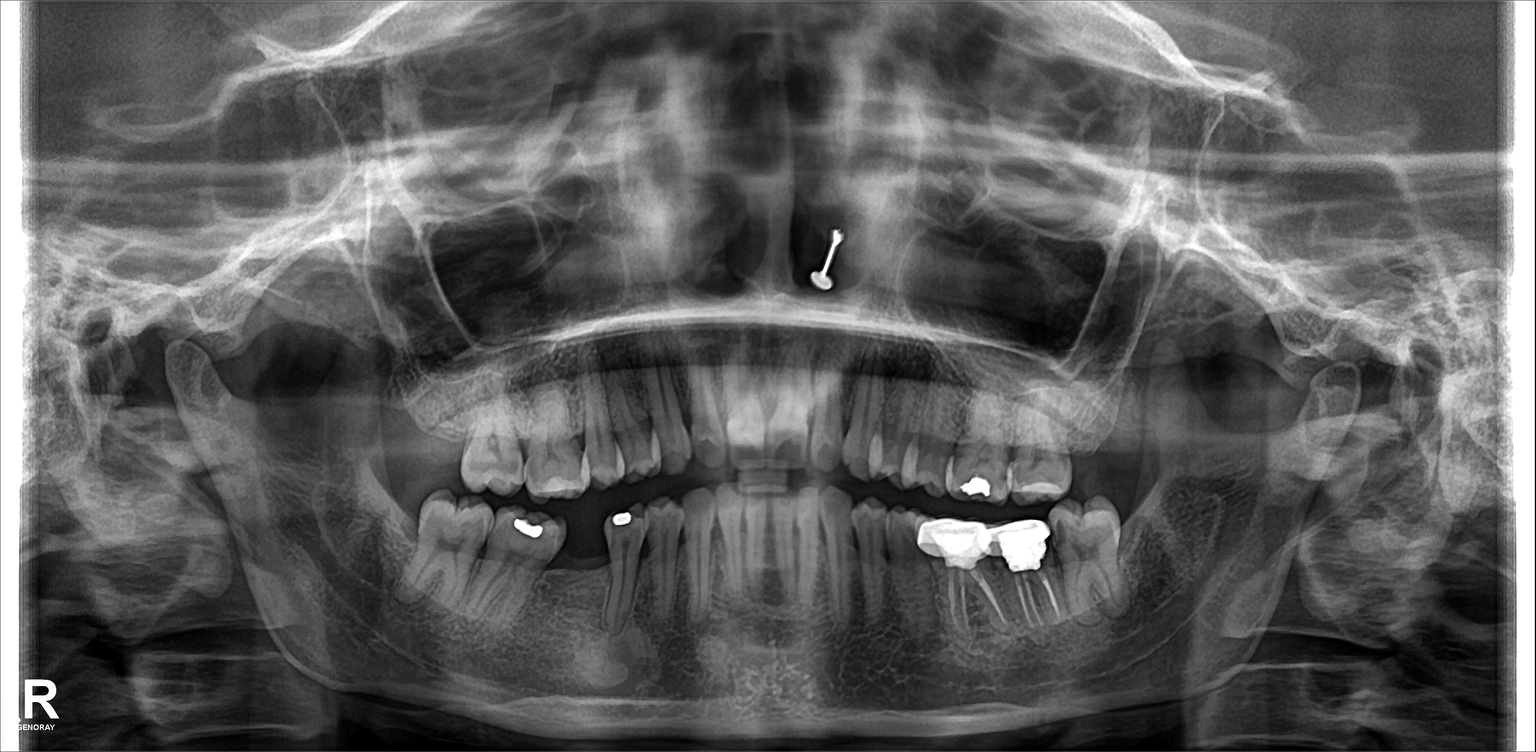Endodontically Treated Tooth: (994, 523, 1067, 640), (924, 523, 992, 637)
Missing Tooth: (404, 391, 463, 477), (354, 382, 404, 474), (562, 527, 608, 624), (1061, 396, 1108, 468), (376, 486, 410, 570)
